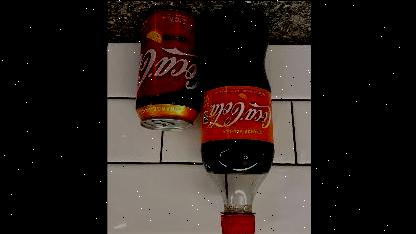Can: (134, 7, 200, 131)
Plastic Bottle: (198, 4, 274, 234)
